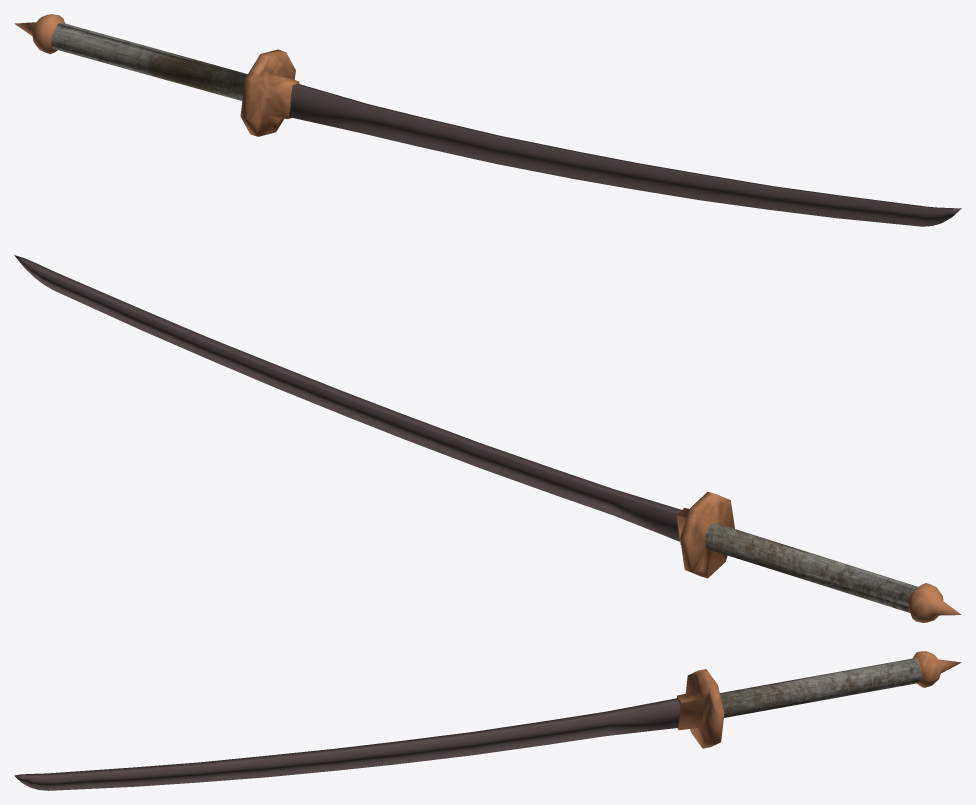
Rendered from Anim_idle_katana_objetos.0016.obj.
The picture shows the model from 3 angles, top to bottom: view 1: azimuth 30°, elevation 25°; view 2: azimuth 210°, elevation 25°; view 3: azimuth 270°, elevation 25°; orthographic projection. The views are drawn at different scales.
Visible parts, largest first — view 1: Katana1; view 2: Katana1; view 3: Katana1.
Part boxes in pixels (box(x1,y1,x2,y2)): Katana1: box(14, 14, 961, 226); Katana1: box(14, 255, 961, 622); Katana1: box(14, 651, 961, 790).
Size of the model in its own units: 2.32 by 0.6297 by 4.81.
